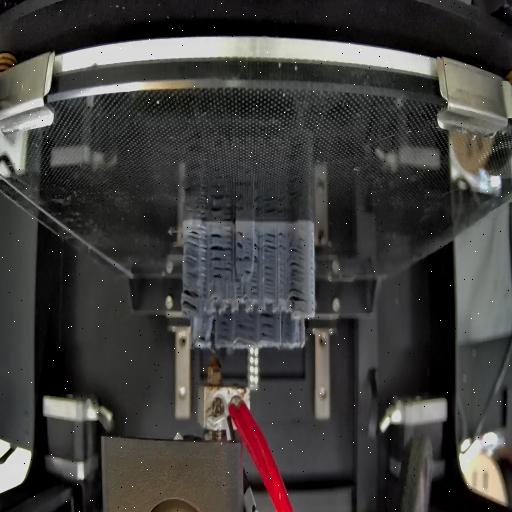cracks: (184, 228, 208, 282), (288, 238, 306, 306), (209, 228, 233, 260), (236, 310, 257, 338), (260, 311, 278, 340), (264, 233, 288, 254), (182, 288, 202, 312), (219, 312, 233, 342), (214, 265, 234, 282), (266, 264, 276, 296), (238, 252, 260, 264), (235, 278, 244, 302), (250, 275, 258, 298), (236, 230, 244, 250), (252, 233, 261, 249), (198, 335, 208, 345), (244, 270, 252, 274)
